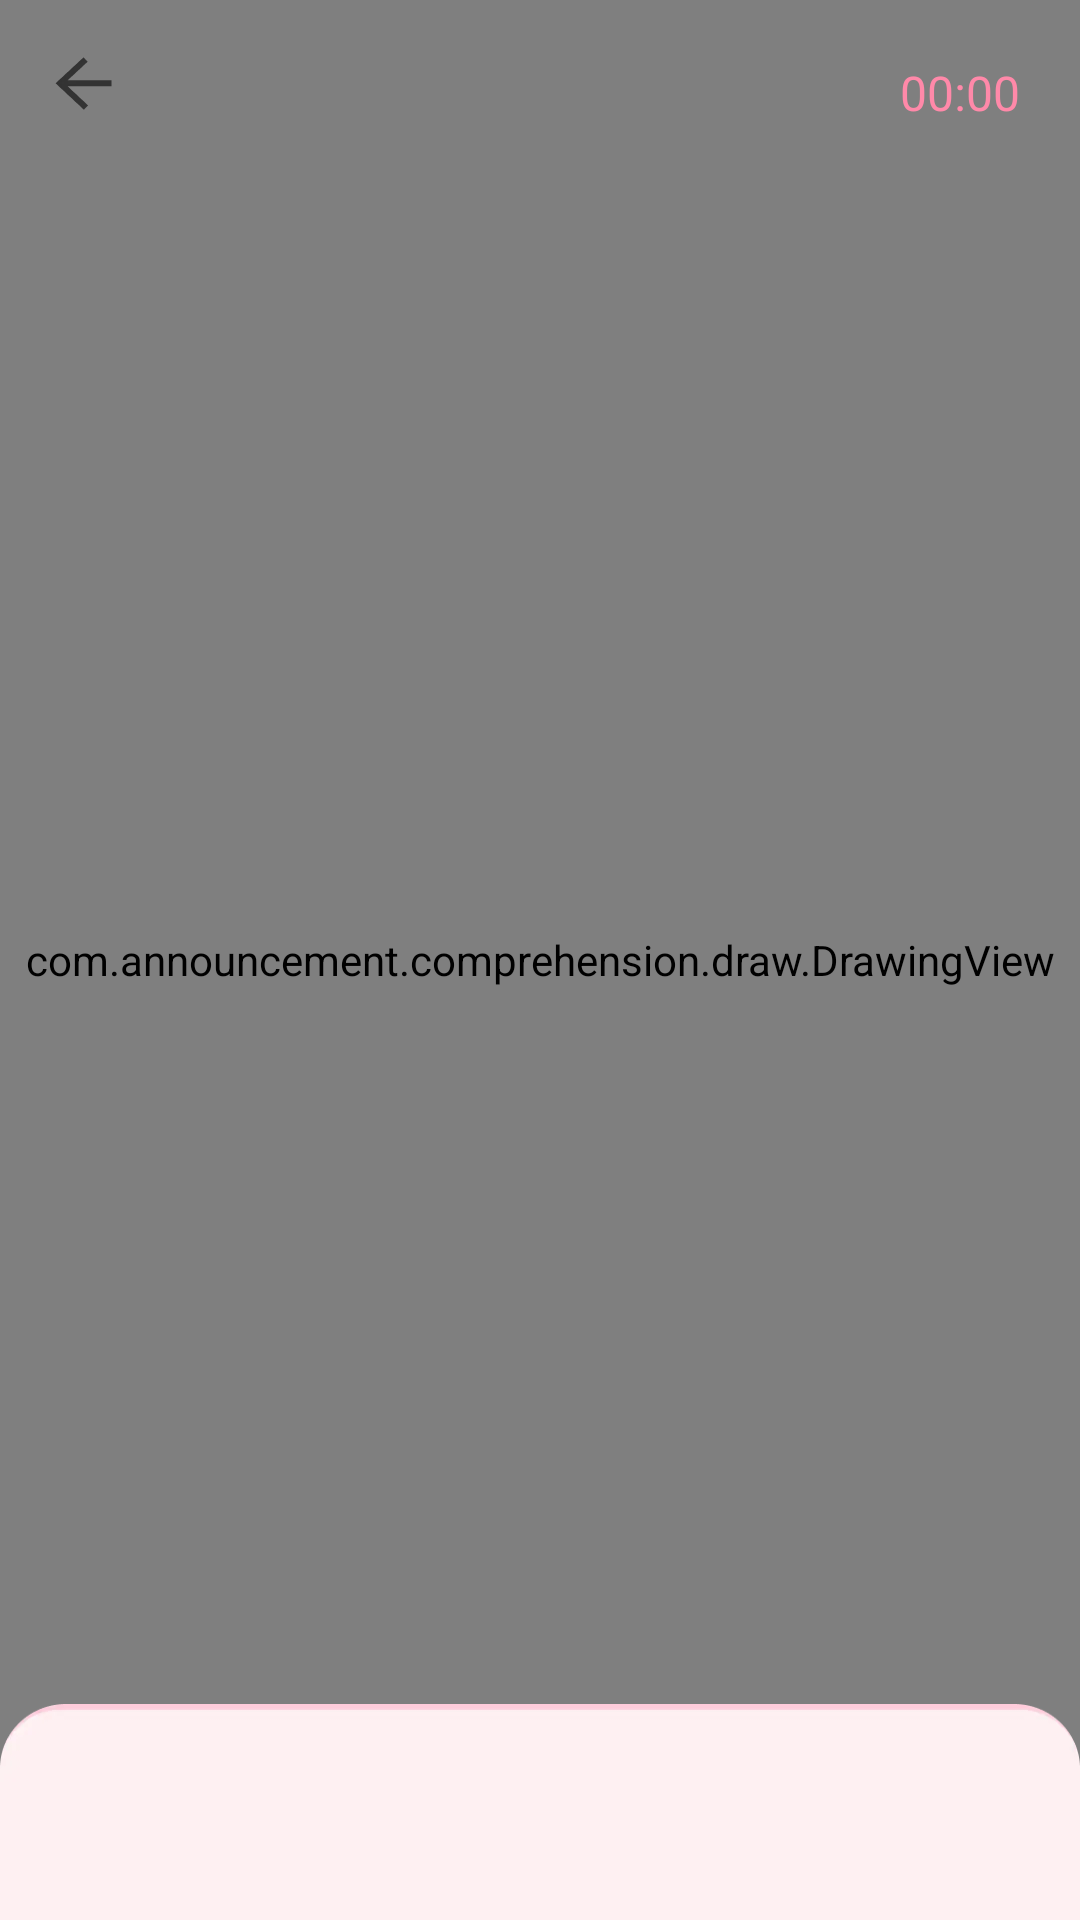

Point at icon controls on the screen. Image size 1080x1920, points as point (x, y).
back: point (84, 83)
